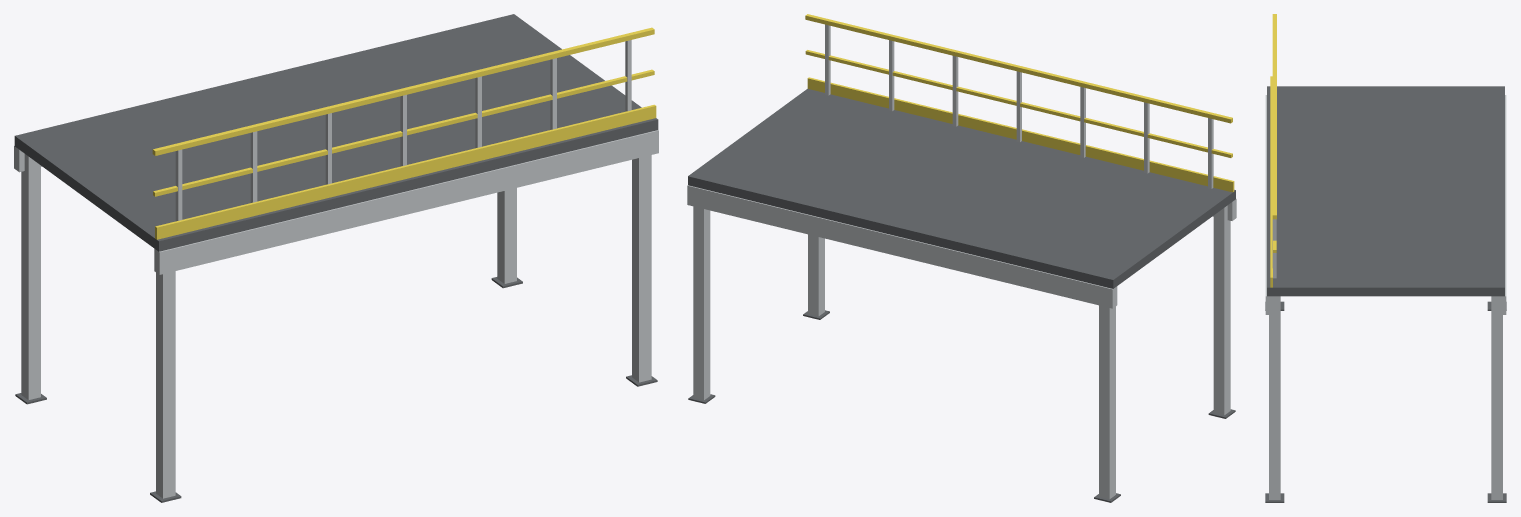
Rendered from Mezzanine floor bay.glb.
3 views of the same model, side by side, from view 1: azimuth 30°, elevation 25°; view 2: azimuth 150°, elevation 25°; view 3: azimuth 270°, elevation 25° (orthographic). The views are drawn at different scales.
Parts seen in each view (by area): view 1: machine-shop-and-factory-hall-mezzanine-bay; view 2: machine-shop-and-factory-hall-mezzanine-bay; view 3: machine-shop-and-factory-hall-mezzanine-bay.
Part boxes in pixels (x1=…): machine-shop-and-factory-hall-mezzanine-bay: x1=14, y1=14, x2=658, y2=502; machine-shop-and-factory-hall-mezzanine-bay: x1=687, y1=14, x2=1236, y2=502; machine-shop-and-factory-hall-mezzanine-bay: x1=1265, y1=14, x2=1506, y2=502.
Bounding box in the file's own units: 6 × 4.01 × 3.04.
